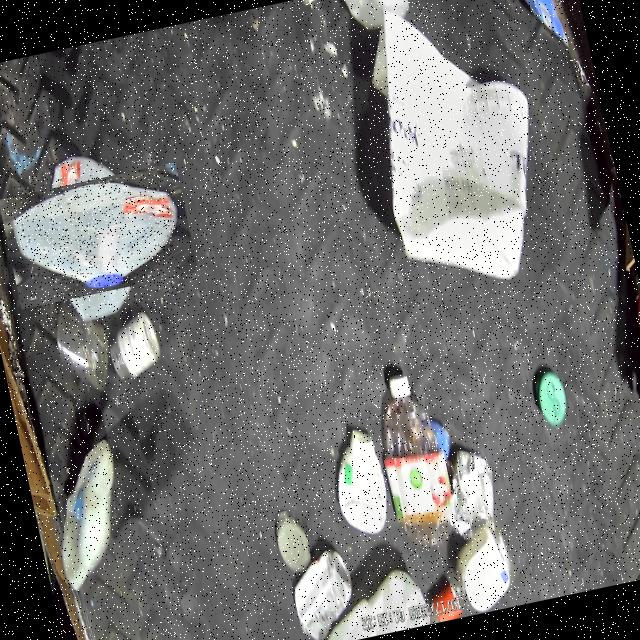milk-jug: (10, 148, 185, 322)
